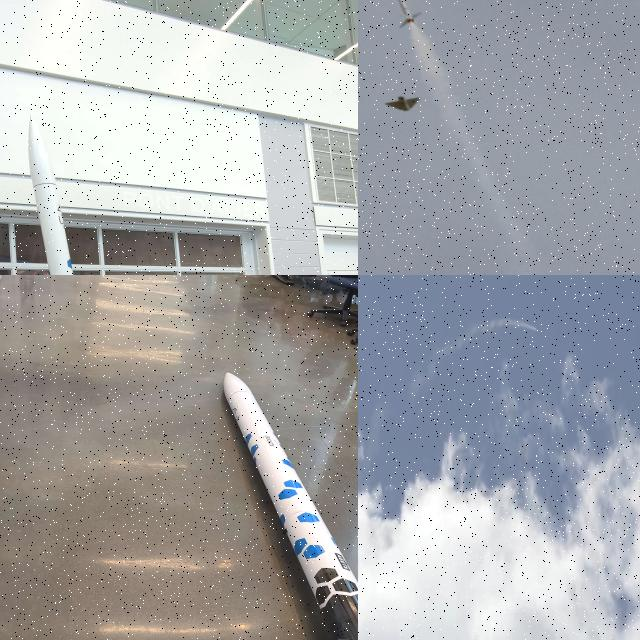Rocket: (223, 371, 358, 640), (28, 113, 74, 275), (391, 0, 424, 29), (534, 326, 538, 333)
